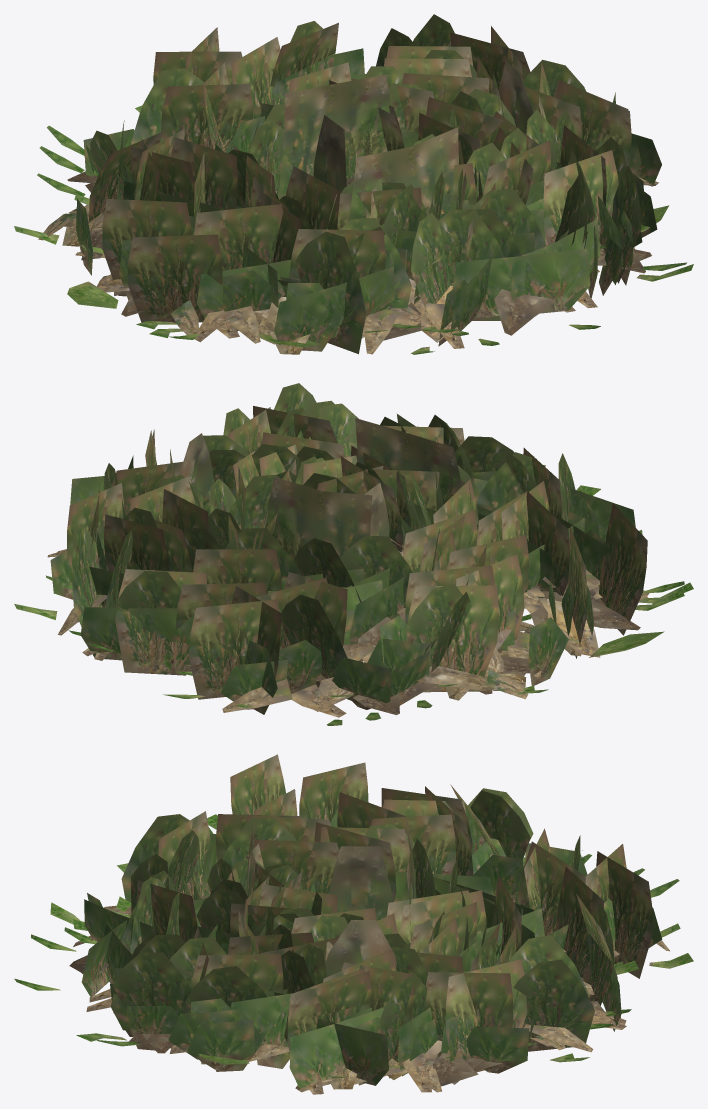
Rendered from Meadow_Grass_01_Var4.FBX.
The picture shows the model from 3 angles, top to bottom: view 1: azimuth 30°, elevation 25°; view 2: azimuth 150°, elevation 25°; view 3: azimuth 270°, elevation 25°; orthographic projection. The views are drawn at different scales.
Parts seen in each view (by area): view 1: Meadow_Grass_01_Var4_LOD0; view 2: Meadow_Grass_01_Var4_LOD0; view 3: Meadow_Grass_01_Var4_LOD0.
Part boxes in pixels (left/top/right/bottom): Meadow_Grass_01_Var4_LOD0: left=14, top=14, right=693, bottom=354; Meadow_Grass_01_Var4_LOD0: left=14, top=383, right=693, bottom=725; Meadow_Grass_01_Var4_LOD0: left=14, top=754, right=693, bottom=1094.
Size of what is drawn, in the model's own units: 166 by 39.06 by 174.
